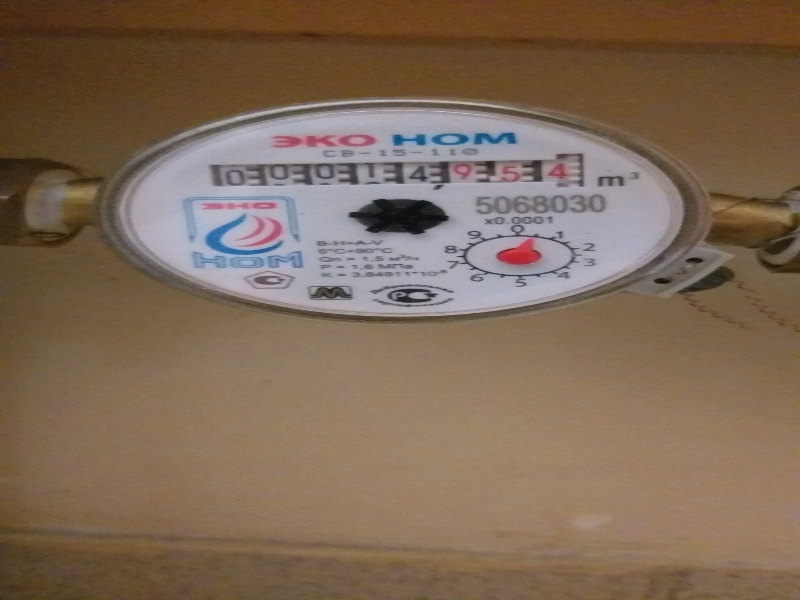meter: (209, 155, 580, 187)
